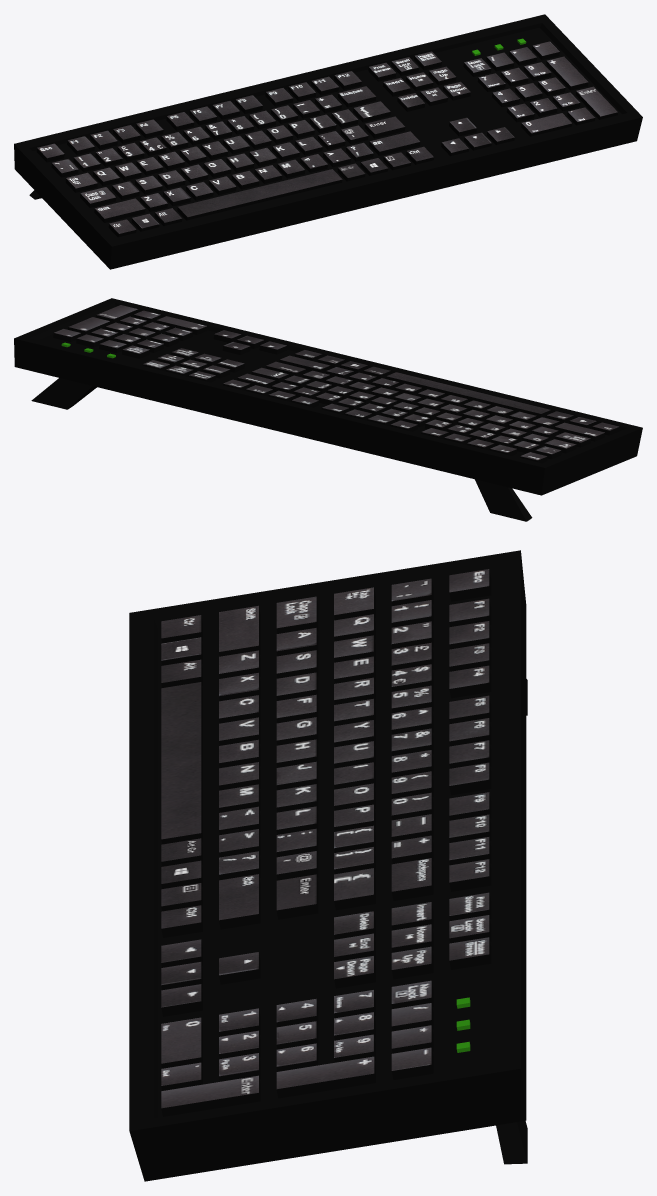
Rendered from klawiatula 1.fbx.
3 renders of one model, top to bottom at view 1: azimuth 30°, elevation 25°; view 2: azimuth 150°, elevation 25°; view 3: azimuth 270°, elevation 25°, orthographic. The views are drawn at different scales.
Parts seen in each view (by area): view 1: Plane; view 2: Plane; view 3: Plane.
Part boxes in pixels (x1,y1,x2,y2): Plane: (14,14,642,269); Plane: (14,298,642,521); Plane: (129,550,527,1181).
Bounding box in the file's own units: 713 × 73.81 × 231.
Materials: 3 (1 with a texture image).
